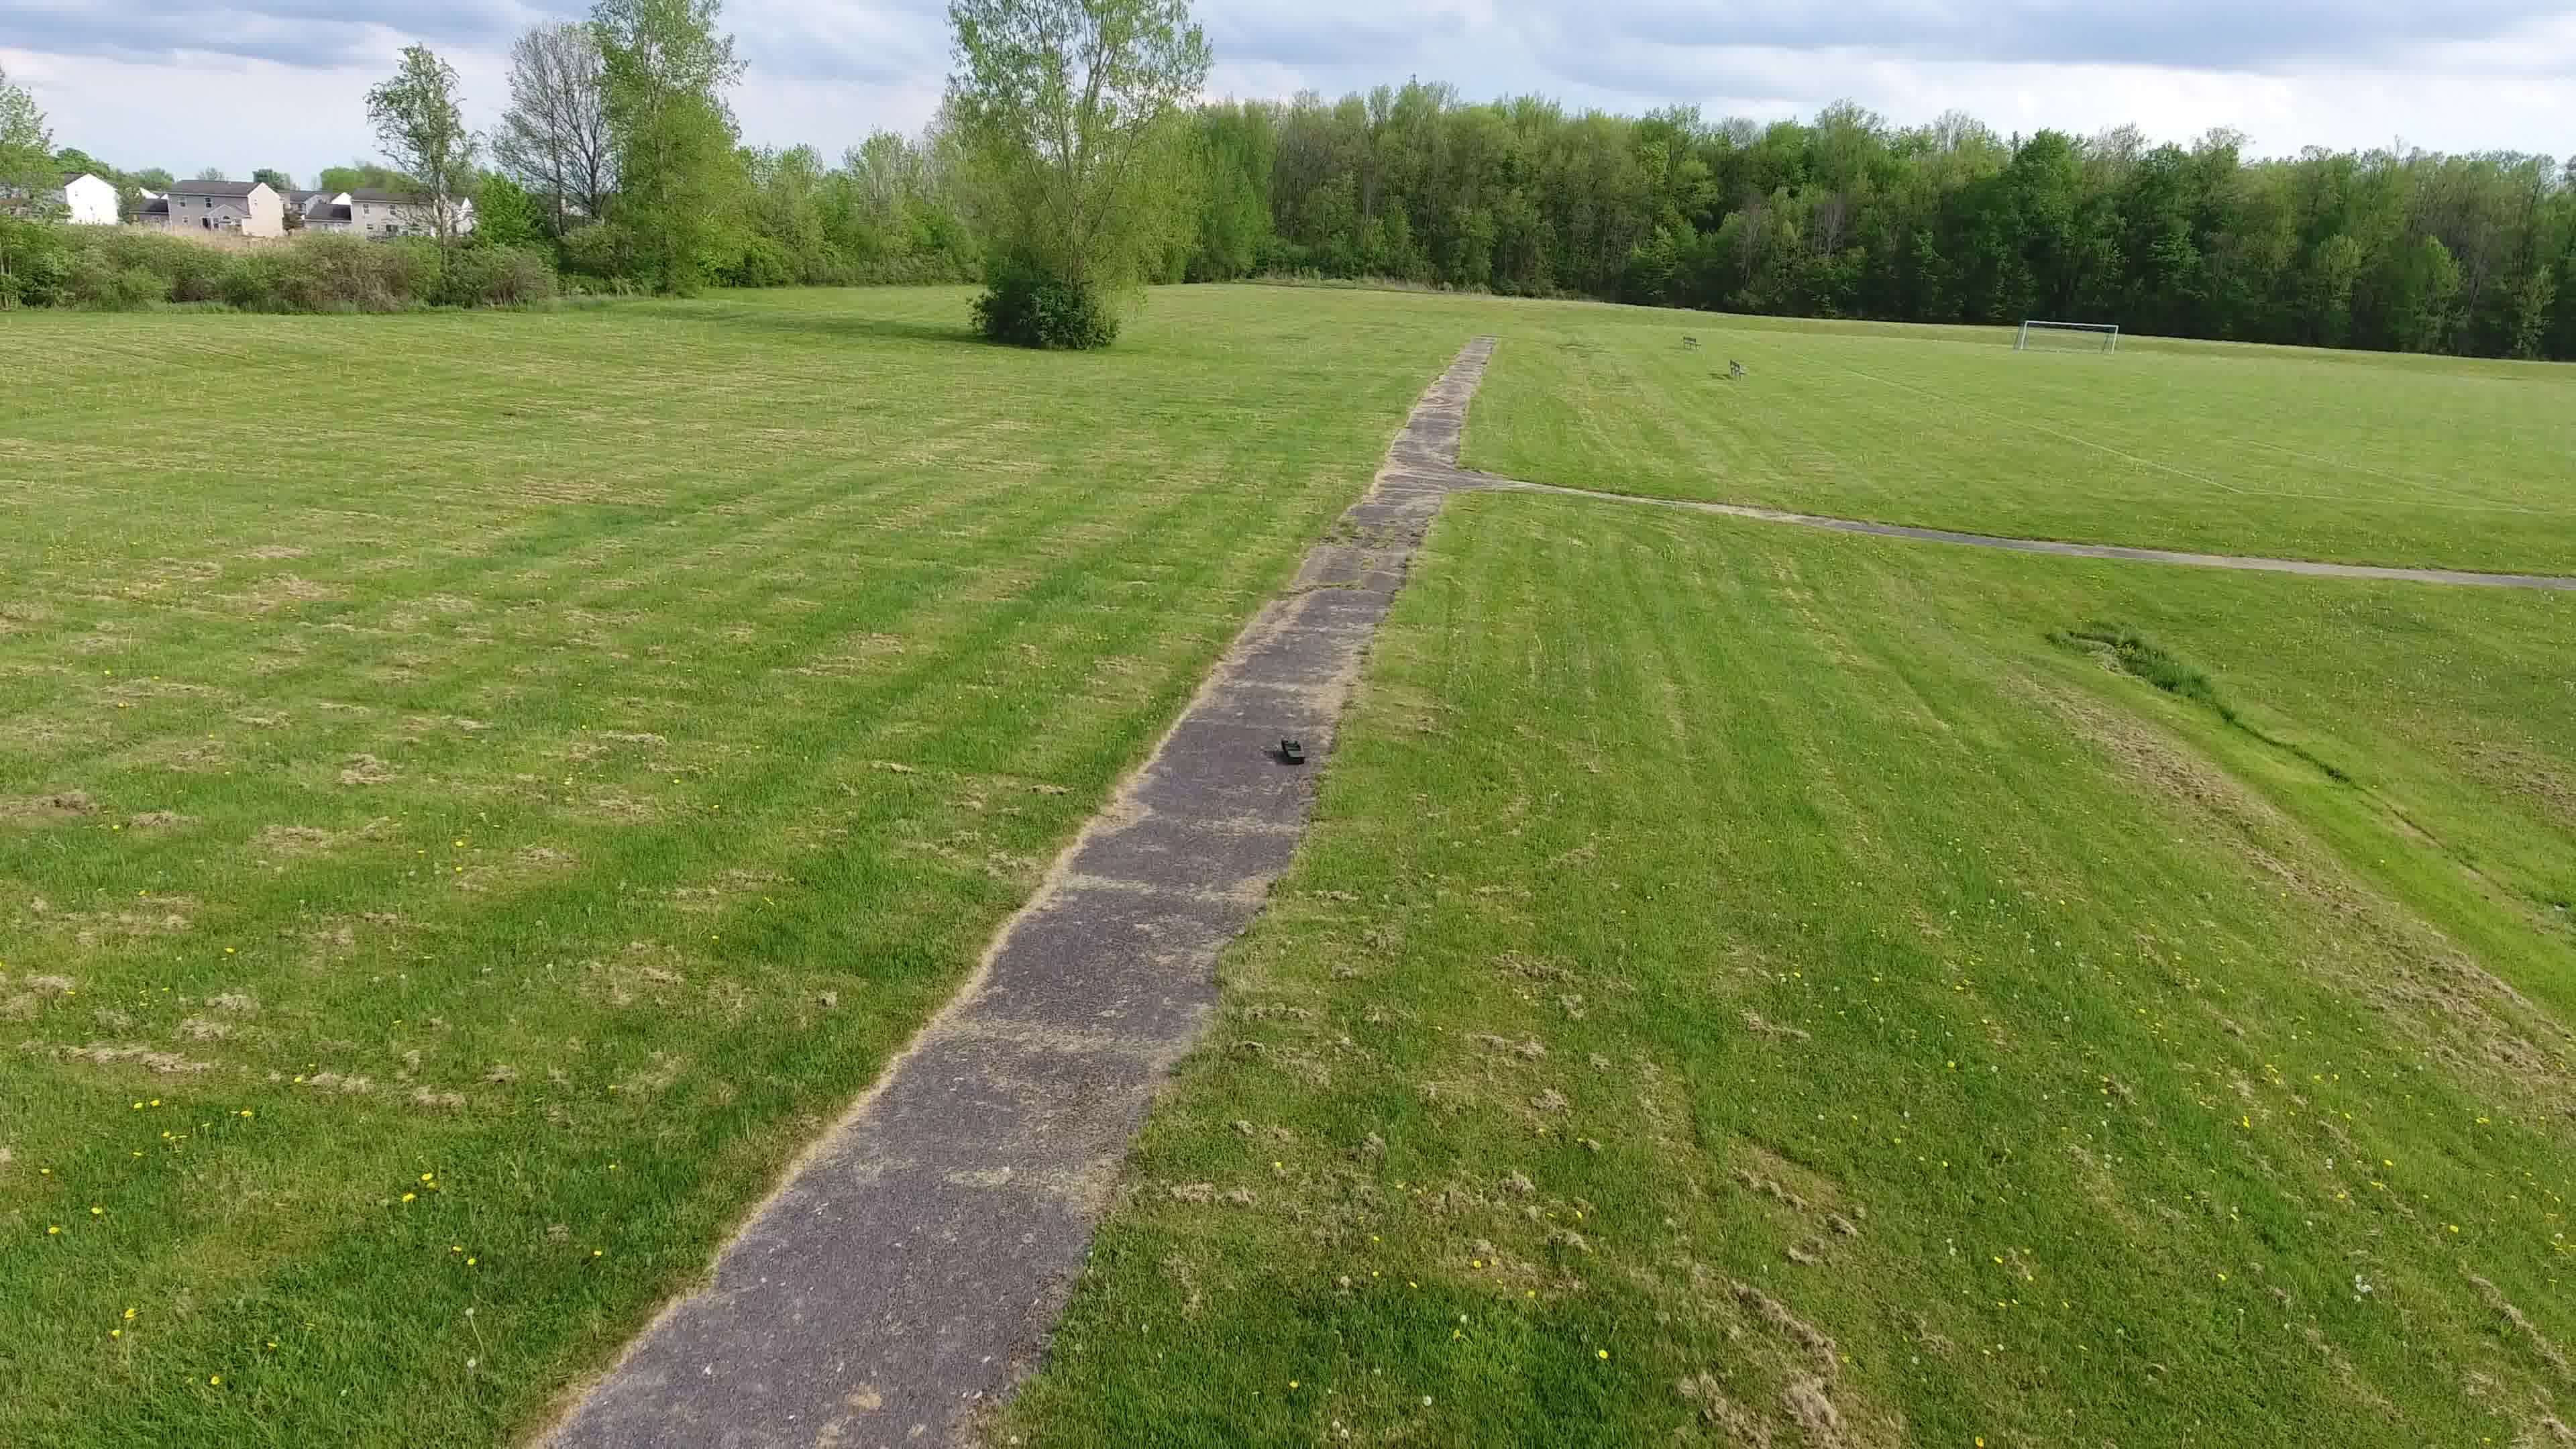transporter9_camo: (1279, 736, 1307, 763)
